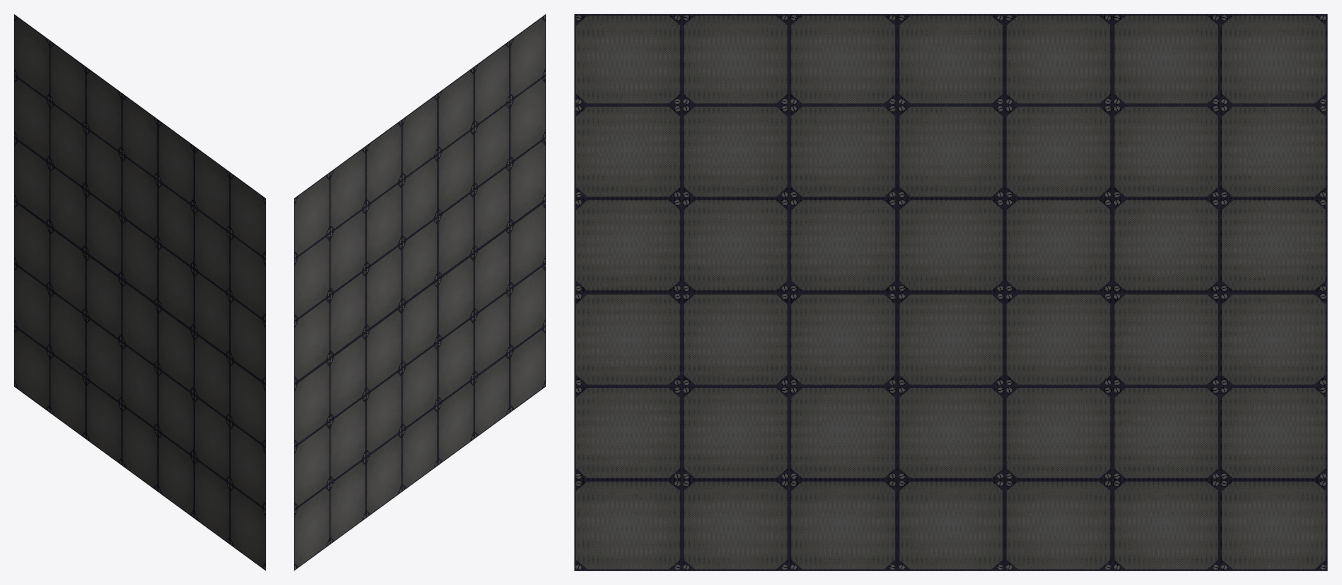
File: WallWide.fbx
3 views of the same model, side by side, from view 1: azimuth 30°, elevation 25°; view 2: azimuth 150°, elevation 25°; view 3: azimuth 270°, elevation 25° (orthographic). The views are drawn at different scales.
Visible parts, largest first — view 1: WallWide; view 2: WallWide; view 3: WallWide.
Boxes of the visible parts, left/top/right/bottom form: WallWide: left=14, top=14, right=265, bottom=570; WallWide: left=294, top=14, right=545, bottom=570; WallWide: left=574, top=14, right=1327, bottom=570.
Bounding box in the file's own units: 1.75e-05 × 200 × 245.
